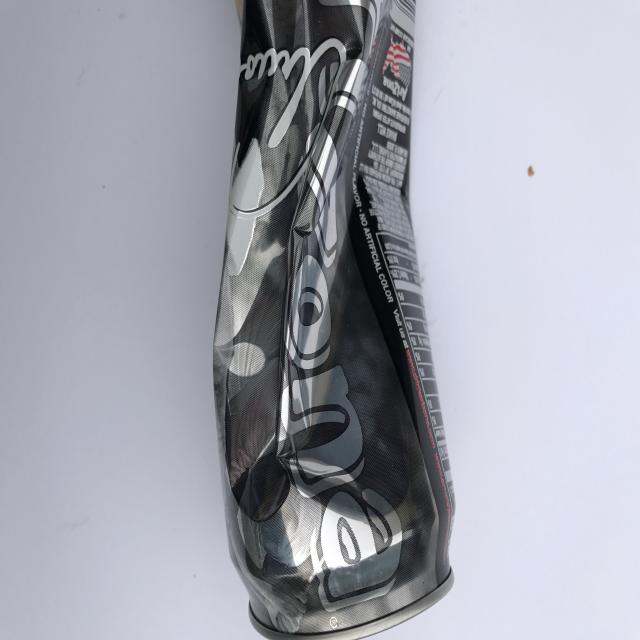metal: (211, 0, 456, 638)
